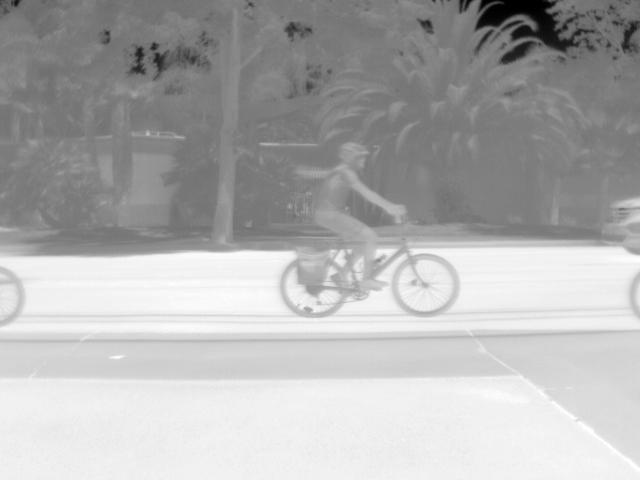car: (598, 195, 638, 254)
person: (308, 140, 408, 292)
